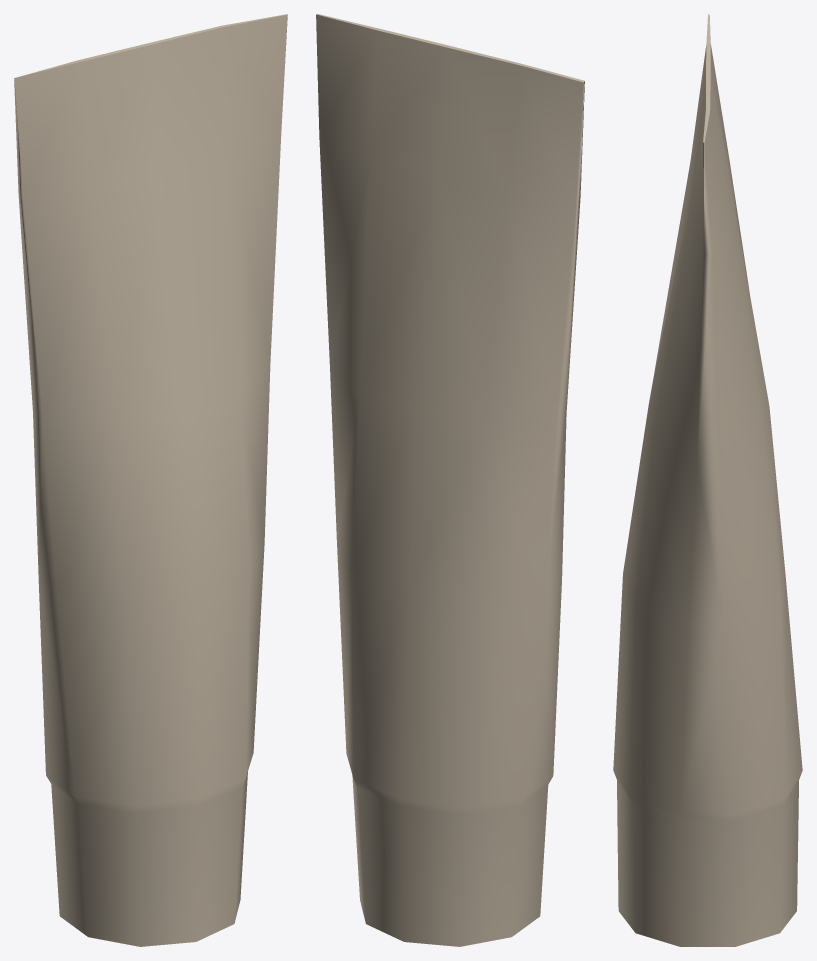
Rendered from toothpaste_26_L.fbx.
3 views of the same model, side by side, from view 1: azimuth 30°, elevation 25°; view 2: azimuth 150°, elevation 25°; view 3: azimuth 270°, elevation 25° (orthographic). The views are drawn at different scales.
Visible parts, largest first — view 1: toothpaste_26_L; view 2: toothpaste_26_L; view 3: toothpaste_26_L.
Part boxes in pixels (box(x1,y1,x2,y2)): toothpaste_26_L: box(14, 14, 287, 946); toothpaste_26_L: box(316, 14, 584, 946); toothpaste_26_L: box(613, 14, 802, 946).
Bounding box in the file's own units: 1.21 × 3.67 × 0.7553.
